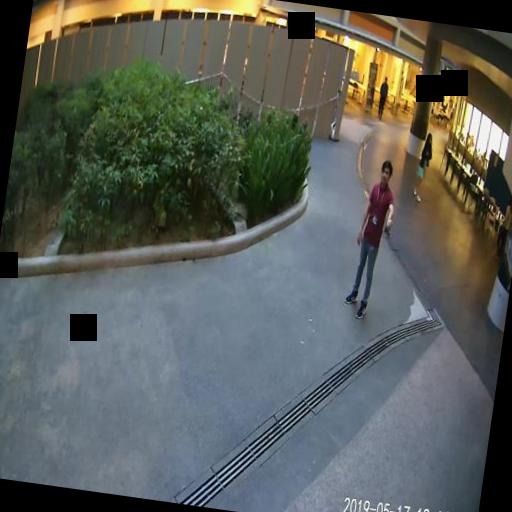Handgun: (382, 218, 392, 234)
